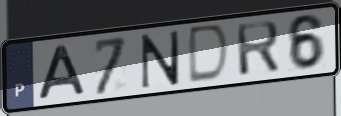6: (285, 12, 328, 74)
7: (94, 34, 128, 97)
A: (36, 43, 89, 102)
D: (186, 22, 233, 86)
N: (139, 28, 182, 91)
R: (234, 19, 282, 79)
